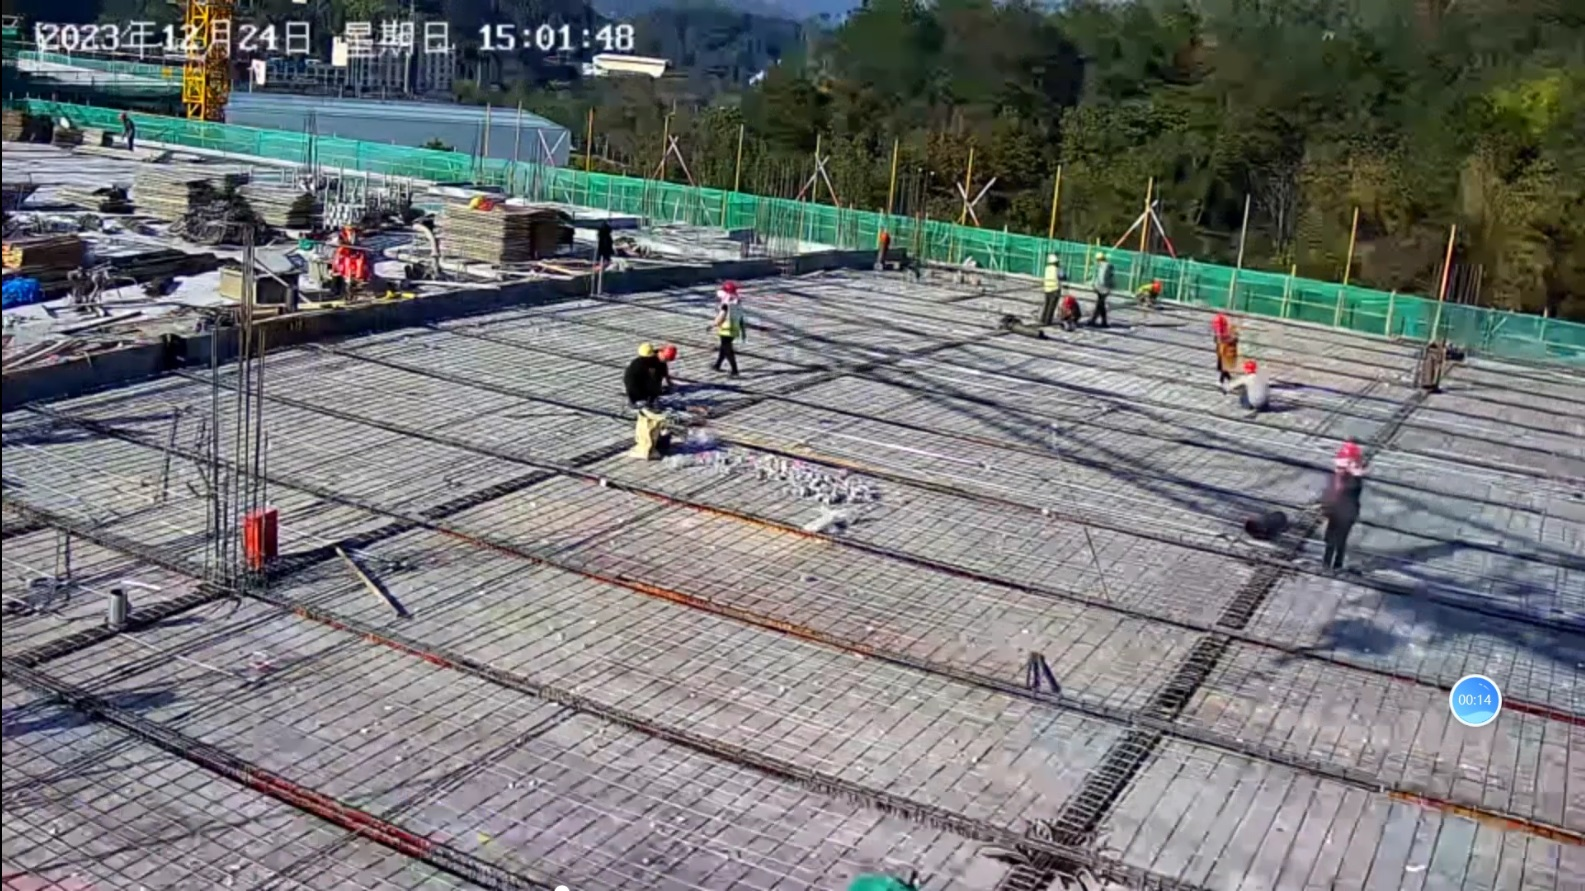person: (1311, 438, 1367, 576), (707, 280, 749, 378), (619, 337, 655, 417), (1225, 355, 1269, 411), (1085, 249, 1115, 329), (644, 343, 676, 416), (1207, 311, 1240, 381), (1039, 249, 1063, 325), (1057, 290, 1081, 329), (1133, 276, 1161, 308)
